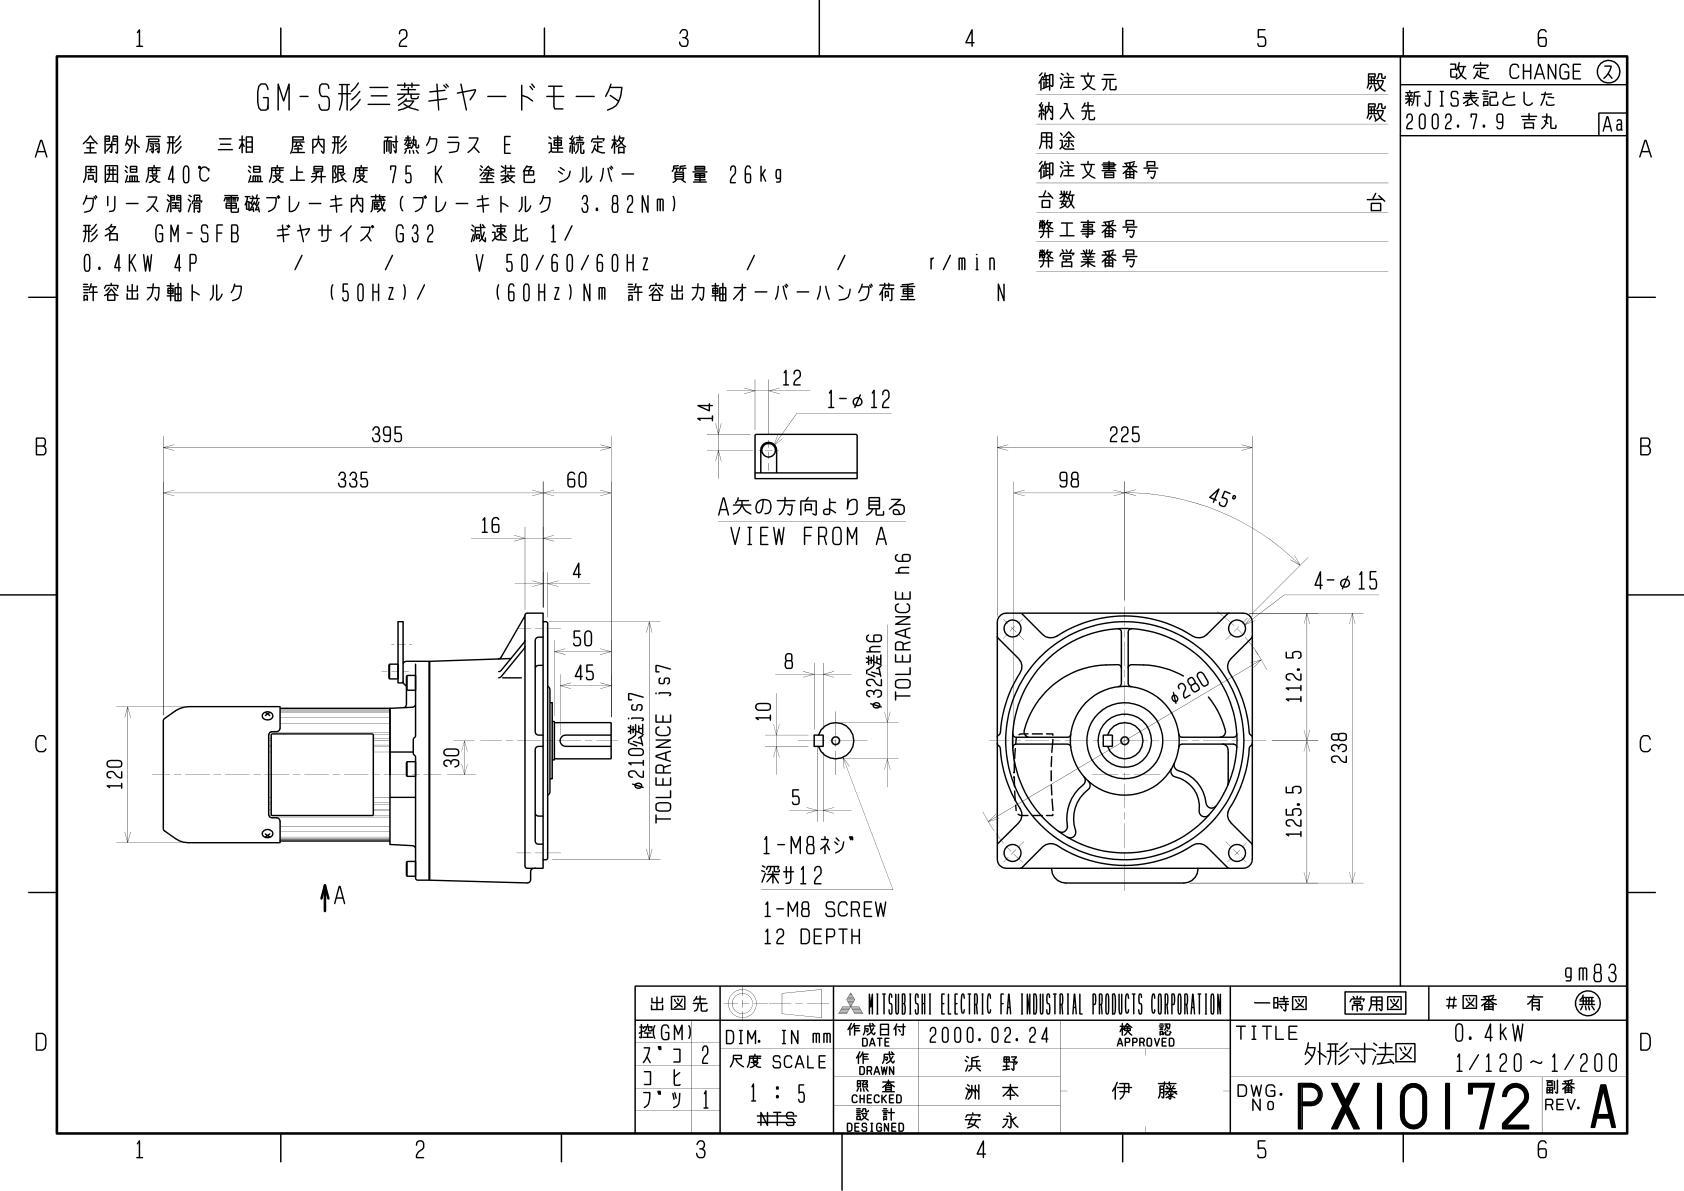GM_S_屋内＿三相_フランジ: (73, 335, 1385, 967)
